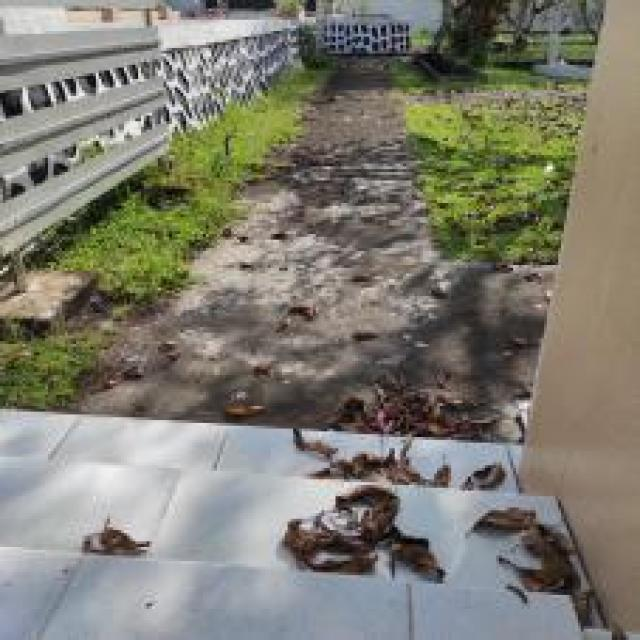downstair: (3, 403, 601, 640)
